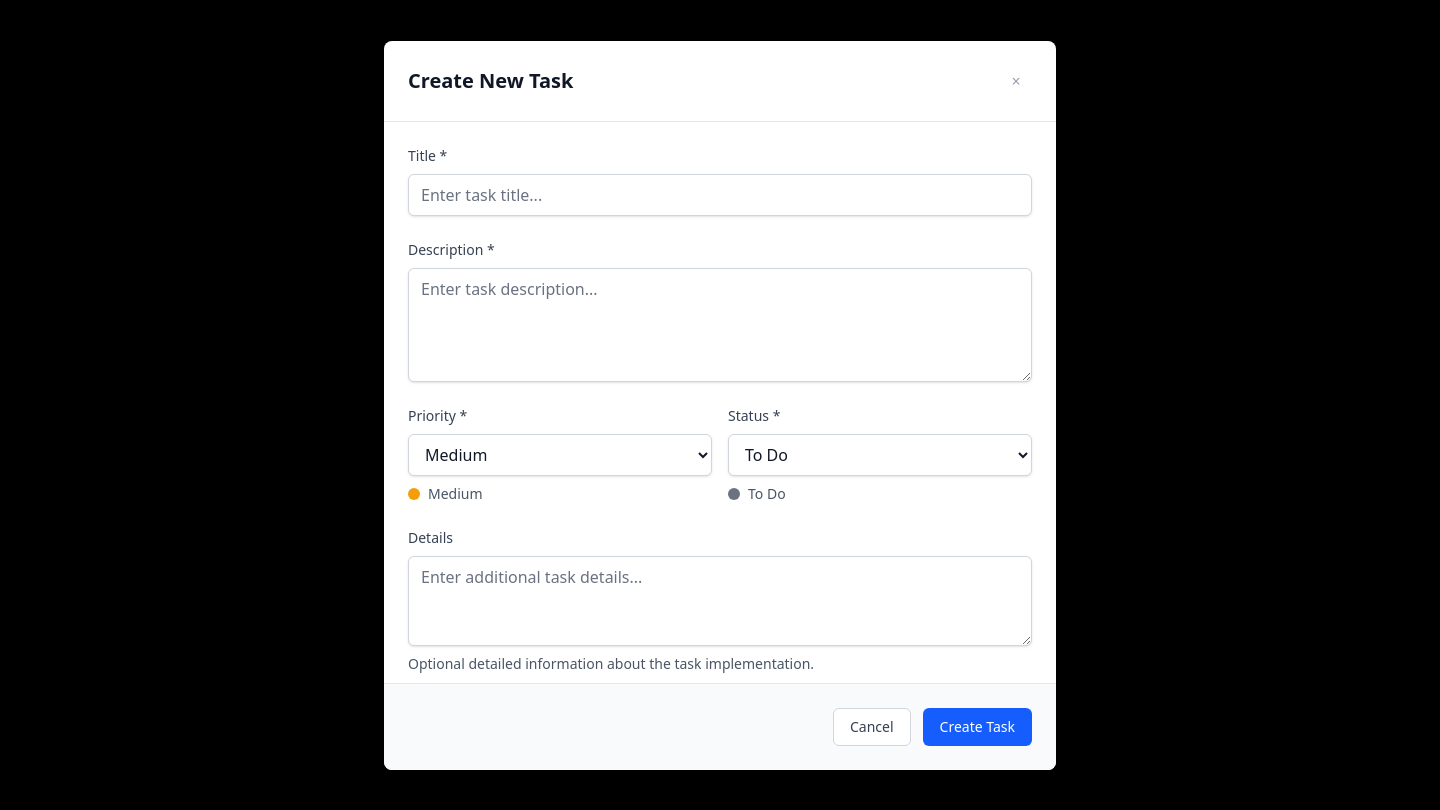
Task Creation Validation › Client-side validation › should validate title length
Enter title that's too short
Type "AB" into the field labelled "Title *" at [720, 194], box [408,174,1032,216]
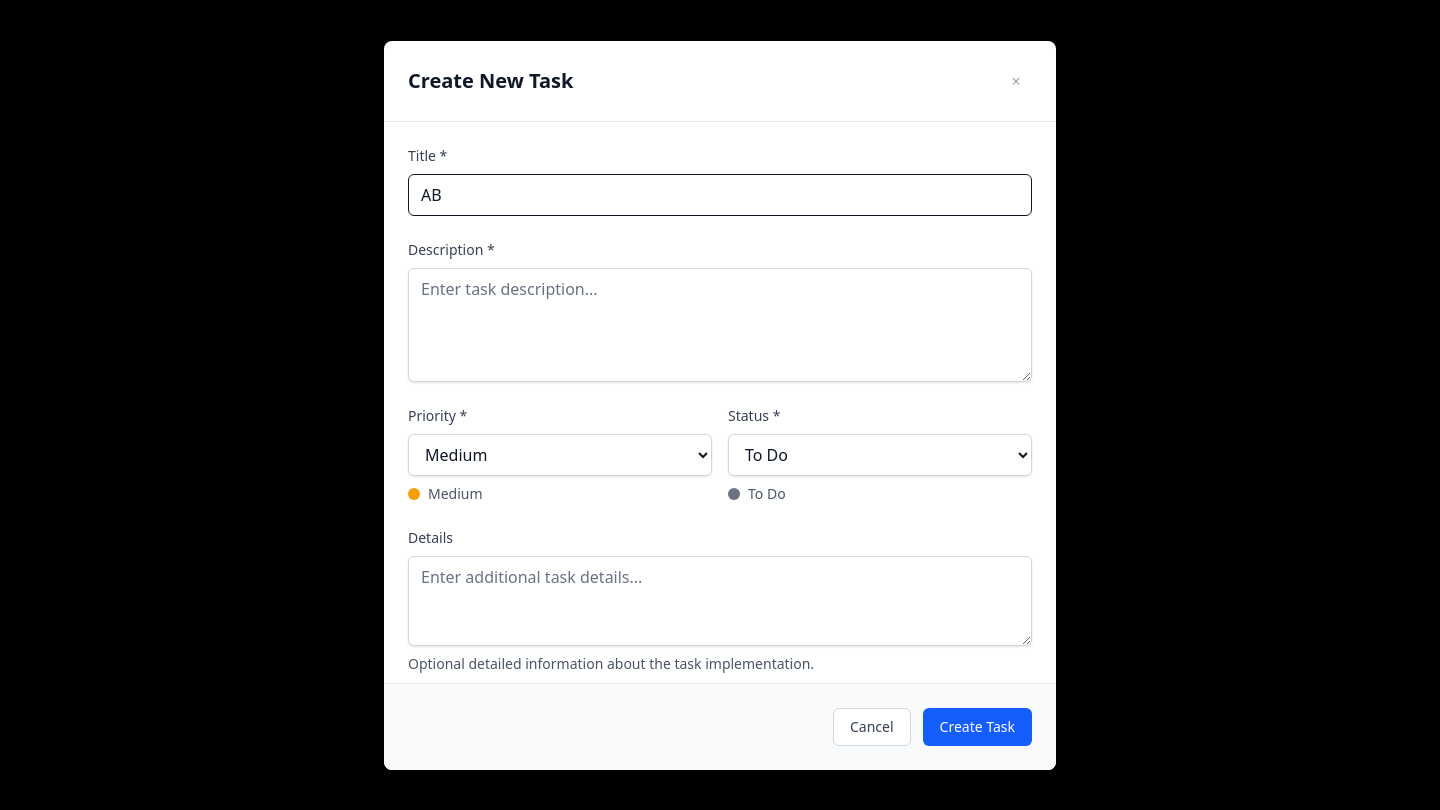
Click the button "Create Task" at [977, 726], box [923,708,1032,746]
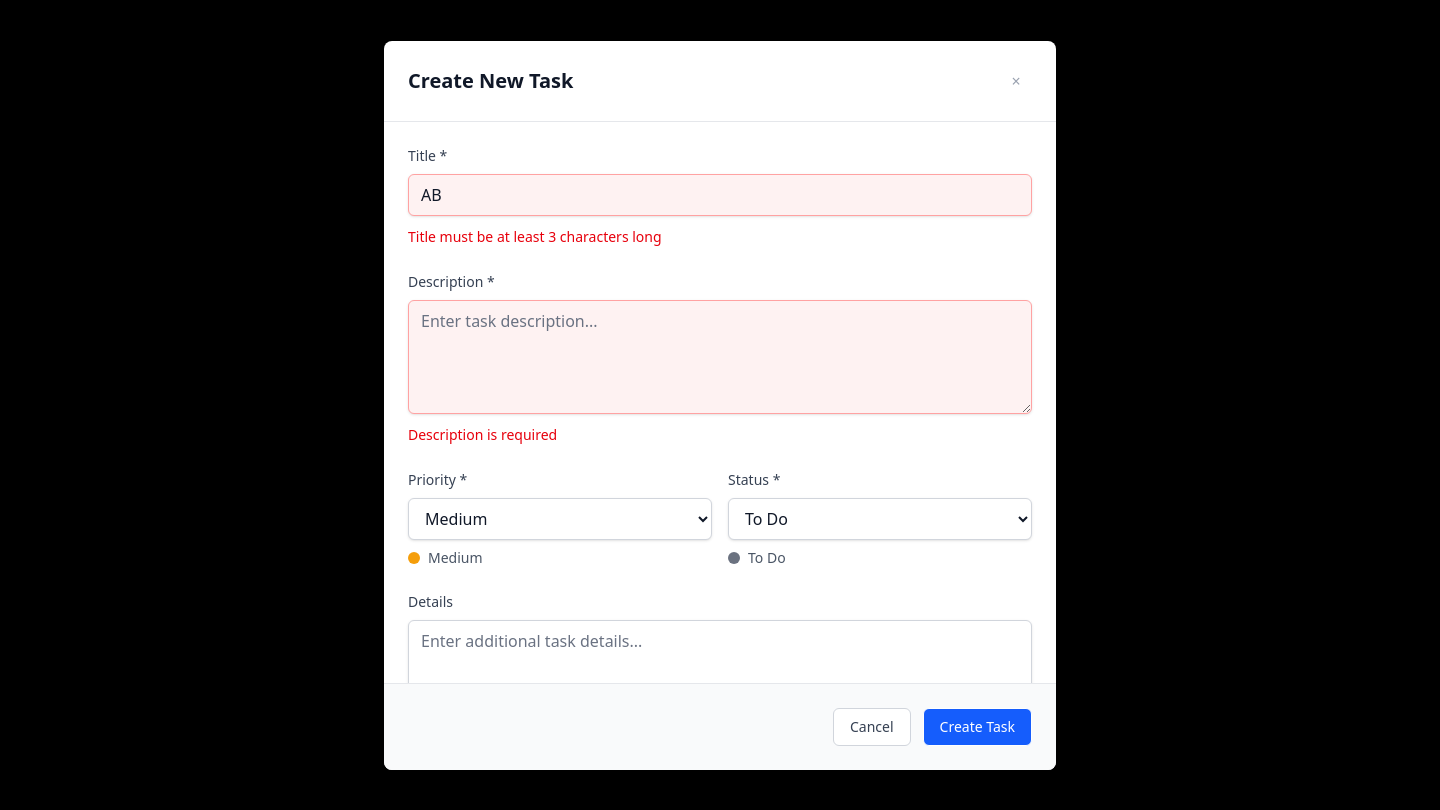
Check: the text "Title must be at least 3 characters long" is shown, box [408,226,662,246]
